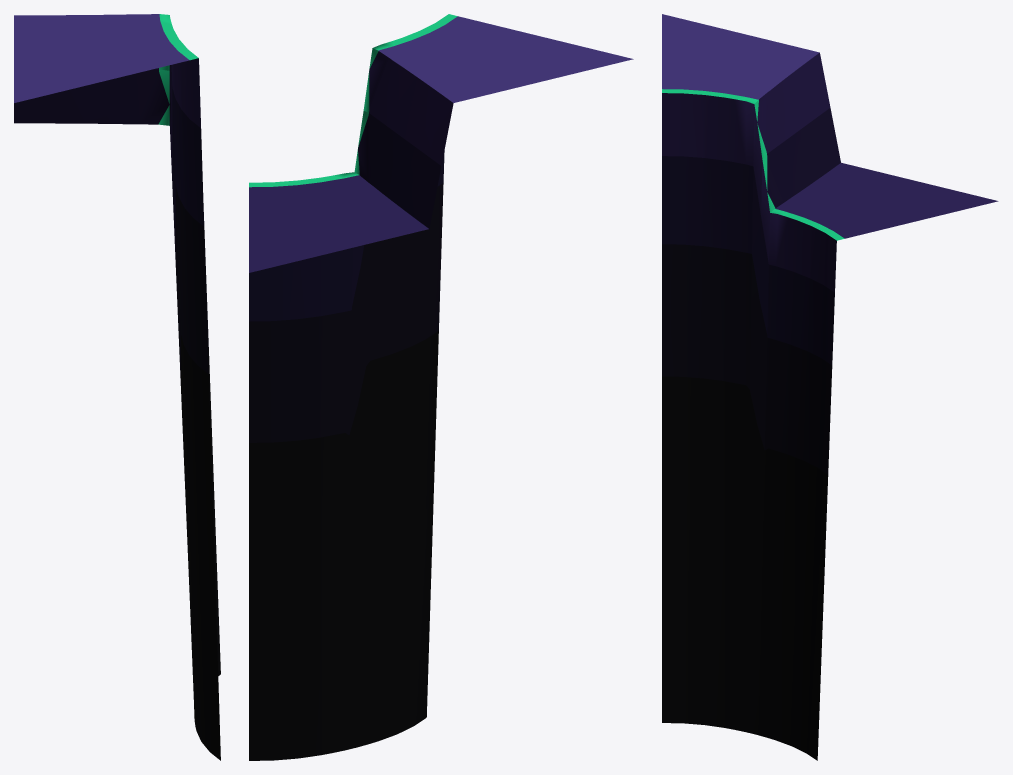
The model's file is MODULE_ALIEN_RIM_STEP_R_1_CLIFF.fbx.
3 views of the same model, side by side, from view 1: azimuth 30°, elevation 25°; view 2: azimuth 150°, elevation 25°; view 3: azimuth 270°, elevation 25° (orthographic). The views are drawn at different scales.
Visible parts, largest first — view 1: MODULE_ALIEN_RIM_STEP_R_1_CLIFF__export; view 2: MODULE_ALIEN_RIM_STEP_R_1_CLIFF__export; view 3: MODULE_ALIEN_RIM_STEP_R_1_CLIFF__export.
Boxes of the visible parts, bbox=[...] form: MODULE_ALIEN_RIM_STEP_R_1_CLIFF__export: bbox=[14, 14, 220, 760]; MODULE_ALIEN_RIM_STEP_R_1_CLIFF__export: bbox=[249, 14, 633, 760]; MODULE_ALIEN_RIM_STEP_R_1_CLIFF__export: bbox=[662, 14, 998, 760].
Size of the model in its own units: 76.91 by 176 by 86.6.
